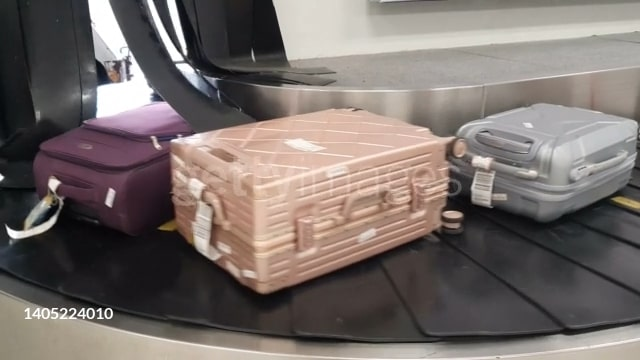baggage: (167, 103, 470, 288), (33, 97, 208, 235), (451, 102, 639, 219)
